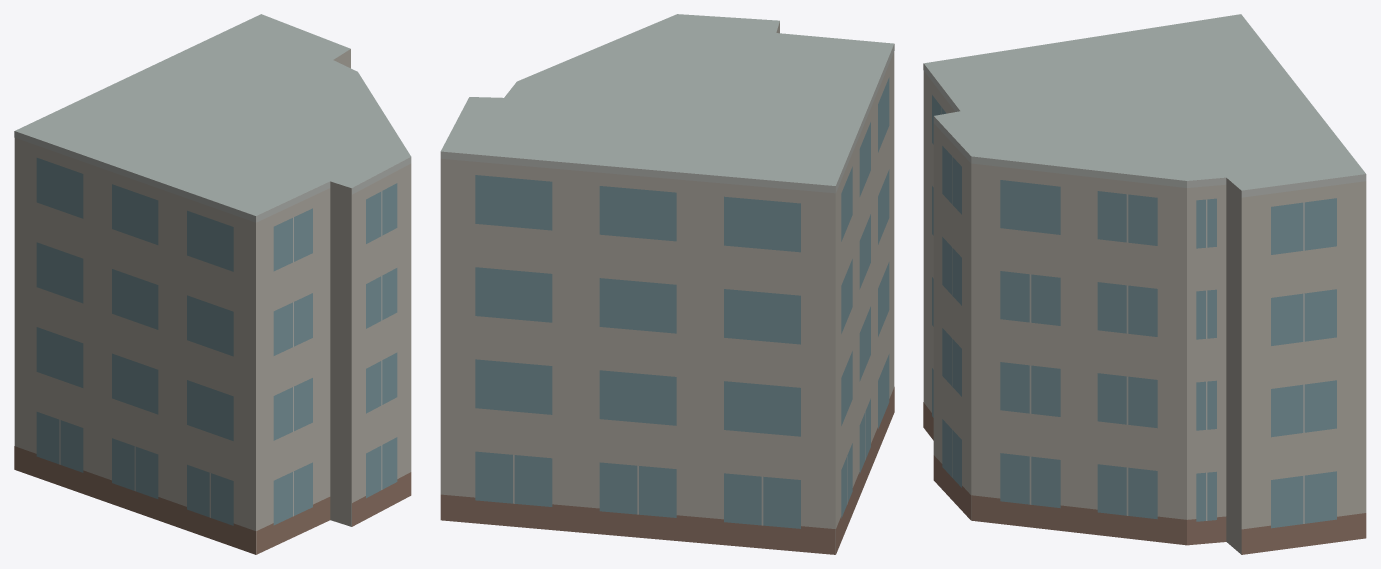
The model's file is survey-upis-32772888.glb.
3 renders of one model, left to right at view 1: azimuth 30°, elevation 25°; view 2: azimuth 150°, elevation 25°; view 3: azimuth 270°, elevation 25°, orthographic. The views are drawn at different scales.
Visible parts, largest first — view 1: survey-upis-32772888.tmp; view 2: survey-upis-32772888.tmp; view 3: survey-upis-32772888.tmp.
Part boxes in pixels (box(x1,y1,x2,y2)): survey-upis-32772888.tmp: box(14, 14, 411, 554); survey-upis-32772888.tmp: box(440, 14, 894, 554); survey-upis-32772888.tmp: box(923, 14, 1366, 554).
Bounding box in the file's own units: 13.01 × 12.5 × 13.78.
